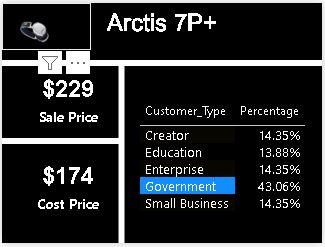

What the dashboard file says about the page in this screenshot:
{"tool":"powerbi","page":{"name":"Tolltip","canvas":[320,240],"ordinal":1},"visuals":[{"type":"card","fields":{"Values":["Max(Query1.Cost_Price)"]},"box":[0,144,132,74],"z":0},{"type":"card","fields":{"Values":["Max(Query1.Sale_Price)"]},"box":[0,54,132,81],"z":1000},{"type":"card","fields":{"Values":["Min(Query1.Product)"]},"box":[0,0,320,39],"z":2000},{"type":"tableEx","fields":{"Values":["Query1.Customer_Type","CountNonNull(Query1.Customer_Type)"]},"box":[132,95,188,123],"z":3000},{"type":"shape","box":[33,62,173,179],"z":3001},{"type":"shape","box":[0,0,320,120],"z":3002},{"type":"cardVisual","fields":{"Data":["Min(Query1.Product)"]},"box":[0,0,88.5,46.5],"z":3003},{"type":"shape","box":[0,80.6,119.4,114.5],"z":3004}]}

Visuals, with their boxes in screenshot pixels (x1, y1, x2, y2), scaled from the page's 320x240 canvas onto the 325x247 screenshot:
card - Max(Query1.Cost_Price): [left=0, top=148, right=134, bottom=224]
card - Max(Query1.Sale_Price): [left=0, top=56, right=134, bottom=139]
card - Min(Query1.Product): [left=0, top=0, right=324, bottom=40]
tableEx - Query1.Customer_Type x CountNonNull(Query1.Customer_Type): [left=134, top=98, right=324, bottom=224]
shape: [left=34, top=64, right=209, bottom=246]
shape: [left=0, top=0, right=324, bottom=123]
cardVisual - Min(Query1.Product): [left=0, top=0, right=90, bottom=48]
shape: [left=0, top=83, right=121, bottom=201]
